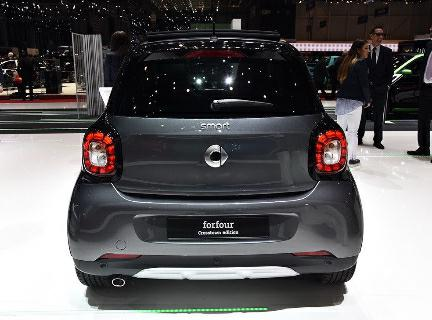smart-forfour: (86, 52, 351, 277)
